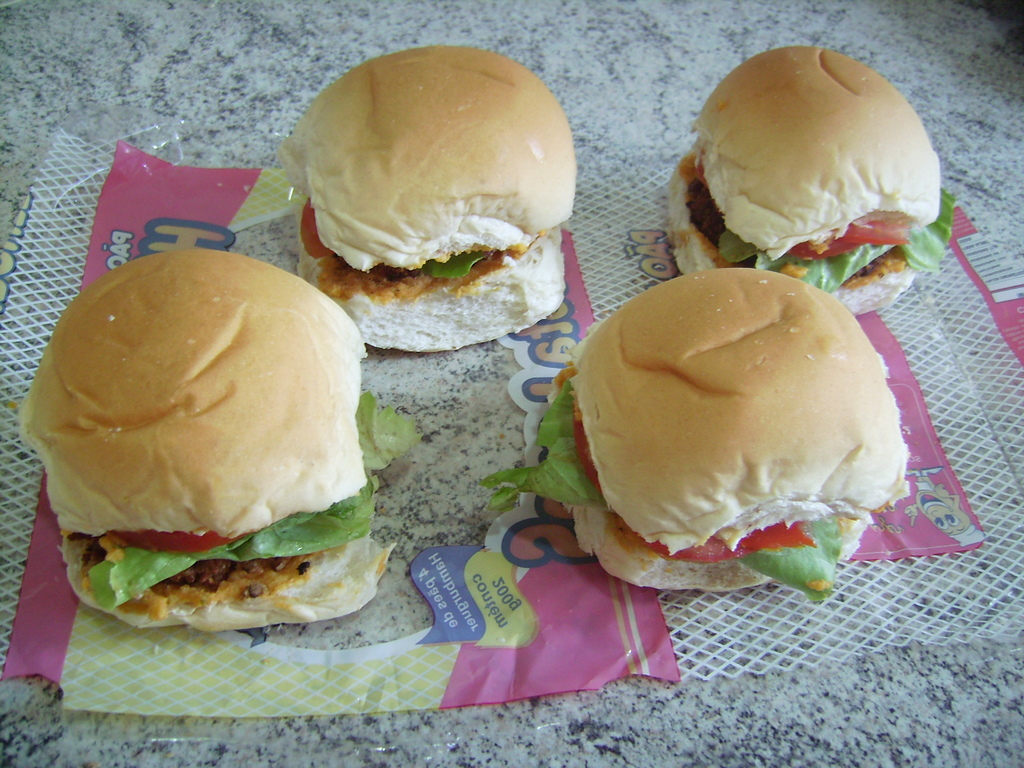Hamburger: (19, 248, 424, 635), (479, 268, 910, 602), (299, 47, 580, 350), (663, 42, 955, 316)
